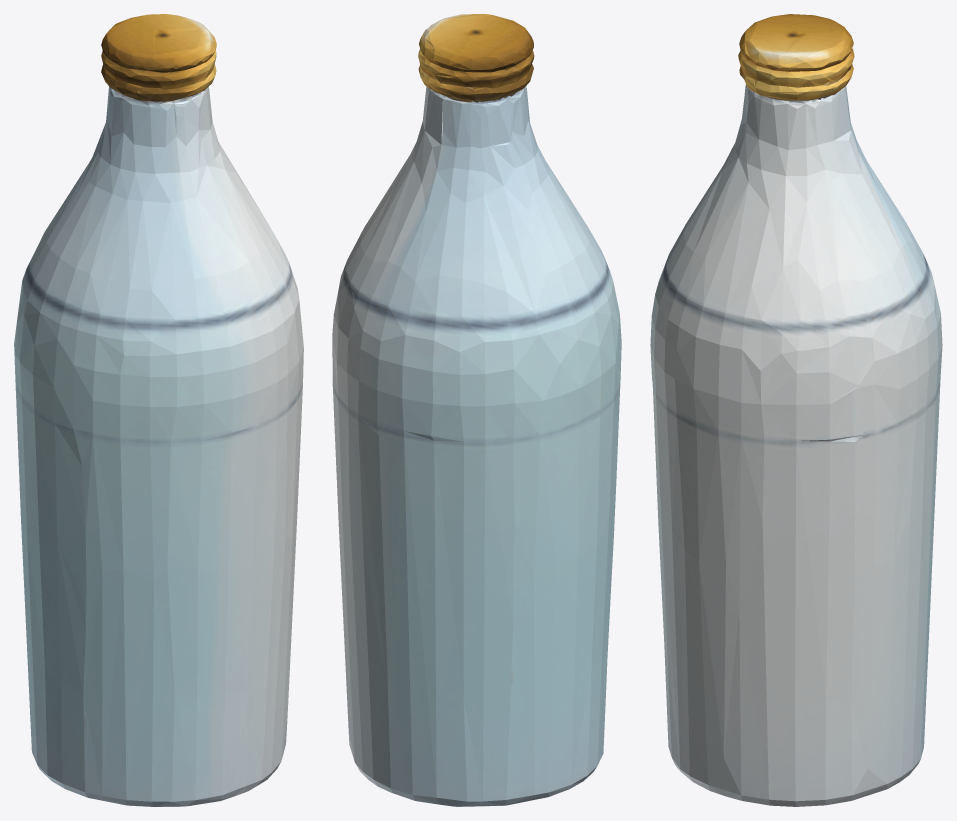
Rendered from water.glb.
3 renders of one model, left to right at view 1: azimuth 30°, elevation 25°; view 2: azimuth 150°, elevation 25°; view 3: azimuth 270°, elevation 25°, orthographic.
Visible parts, largest first — view 1: world; view 2: world; view 3: world.
Part boxes in pixels (<box>): world: <box>14,14,303,806</box>; world: <box>332,14,621,806</box>; world: <box>650,14,942,806</box>.
Bounding box in the file's own units: 0.3588 × 0.9938 × 0.3629.
1 material, 1 textured.
